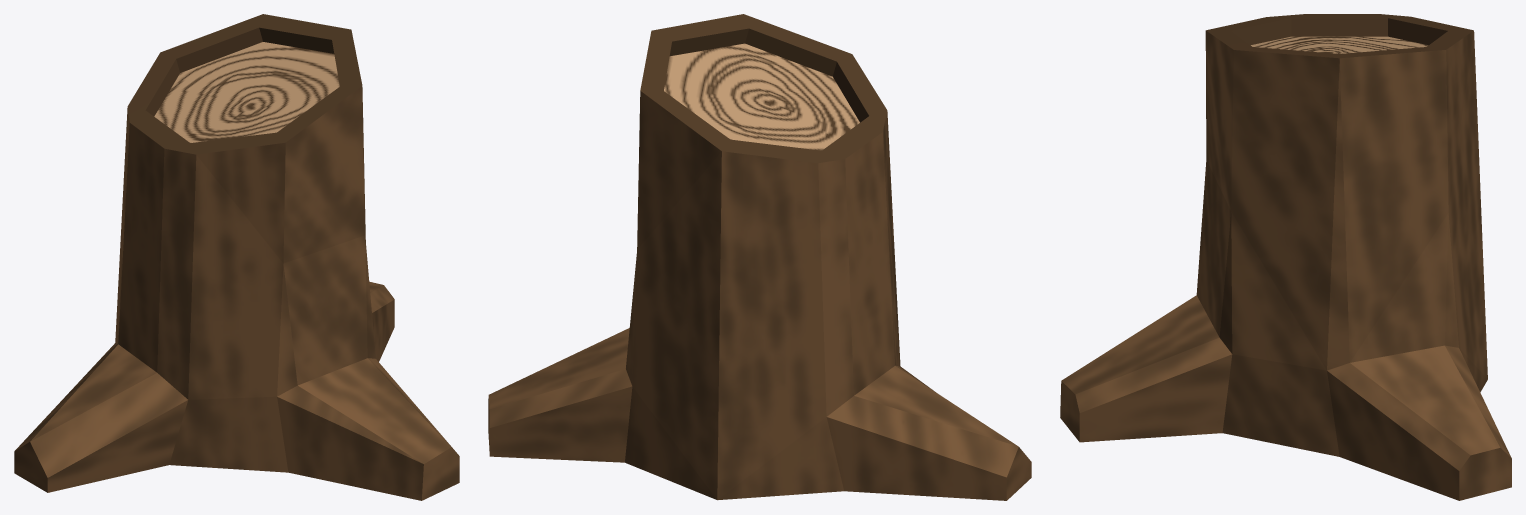
The model's file is tree13.obj.
3 views of the same model, side by side, from view 1: azimuth 30°, elevation 25°; view 2: azimuth 150°, elevation 25°; view 3: azimuth 270°, elevation 25° (orthographic). The views are drawn at different scales.
Parts seen in each view (by area): view 1: _12_tree; view 2: _12_tree; view 3: _12_tree.
Part boxes in pixels (x1,y1,x2,y2): _12_tree: (14, 14, 459, 500); _12_tree: (488, 14, 1031, 500); _12_tree: (1060, 14, 1511, 500).
Bounding box in the file's own units: 0.4567 × 0.3631 × 0.3804.
